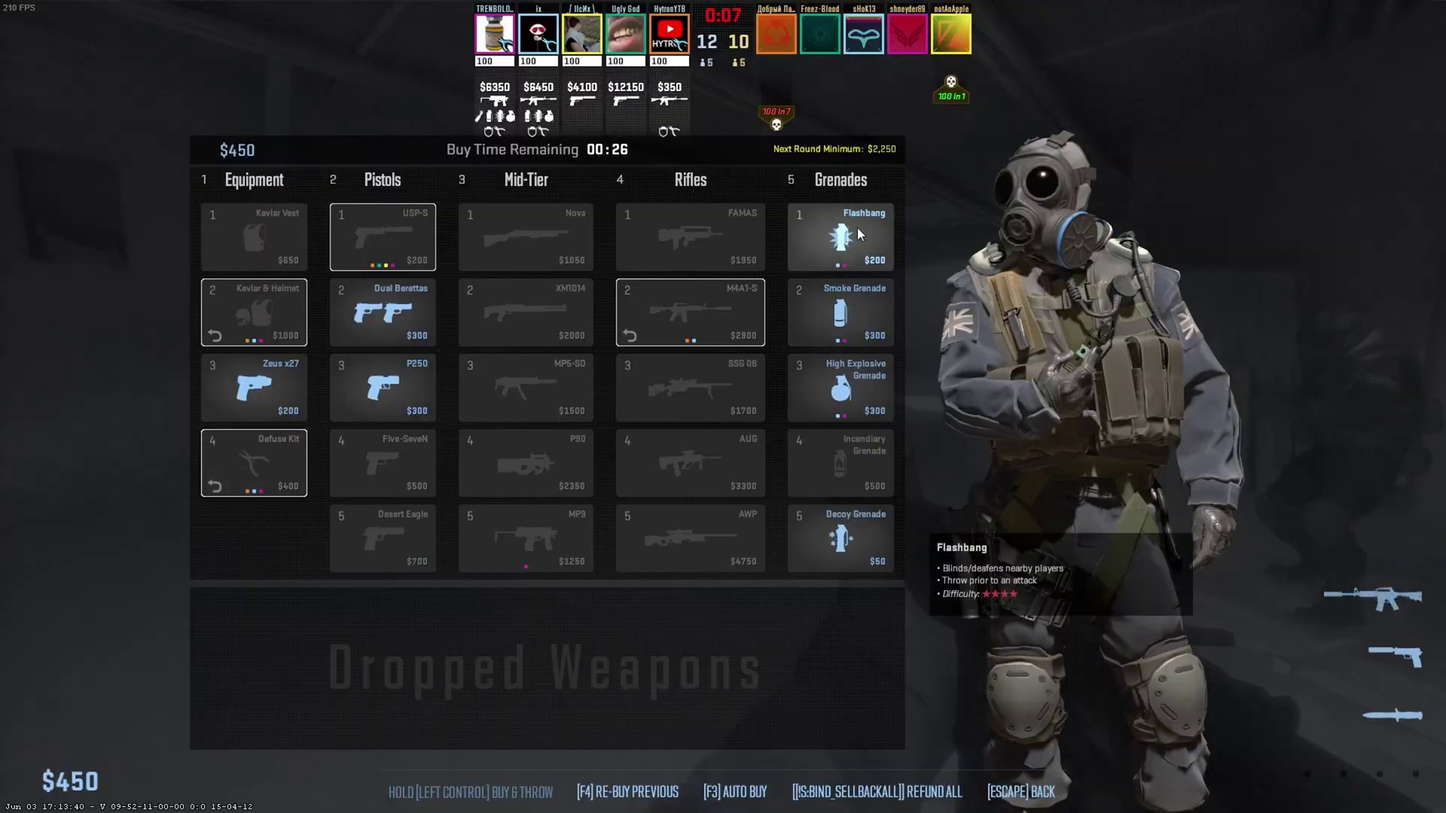CT: (976, 132, 1199, 808)
